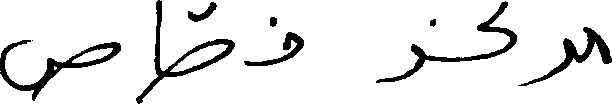ا: (153, 0, 161, 88)
ر: (520, 35, 573, 86)
ز: (376, 16, 436, 83)
ص: (0, 37, 119, 101), (164, 0, 232, 78)
ق: (243, 15, 303, 67)
ك: (477, 0, 516, 60)
م: (585, 24, 610, 63)
